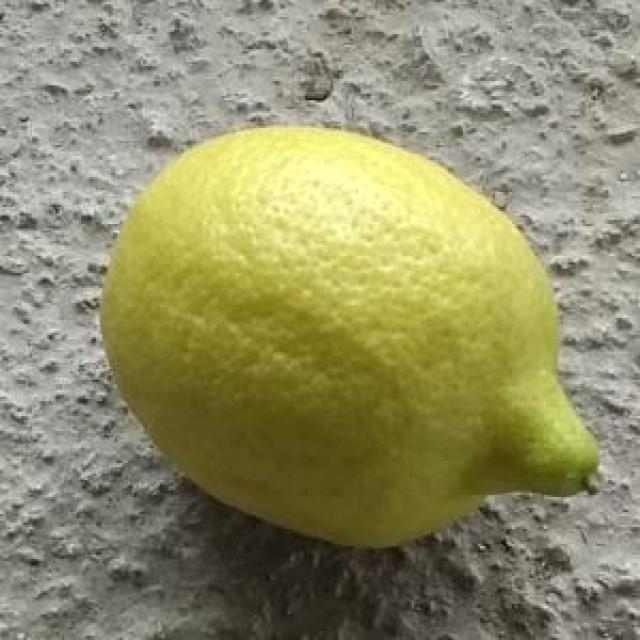lemon: (99, 120, 608, 544)
